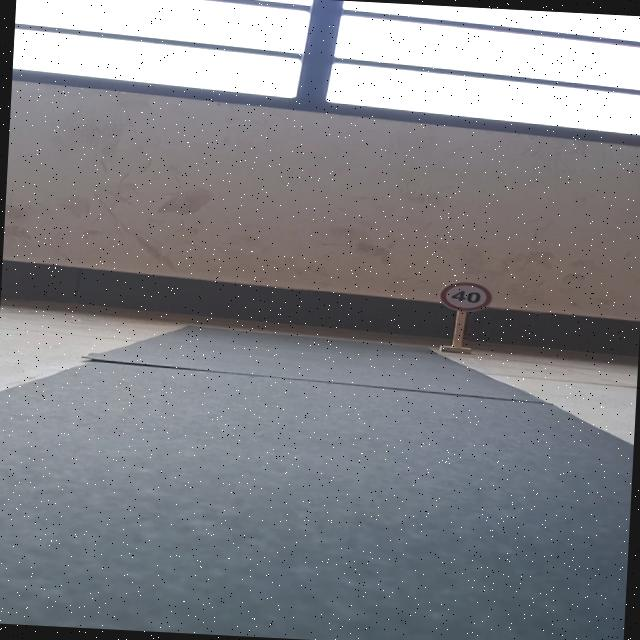Speed40: (431, 274, 498, 320)
